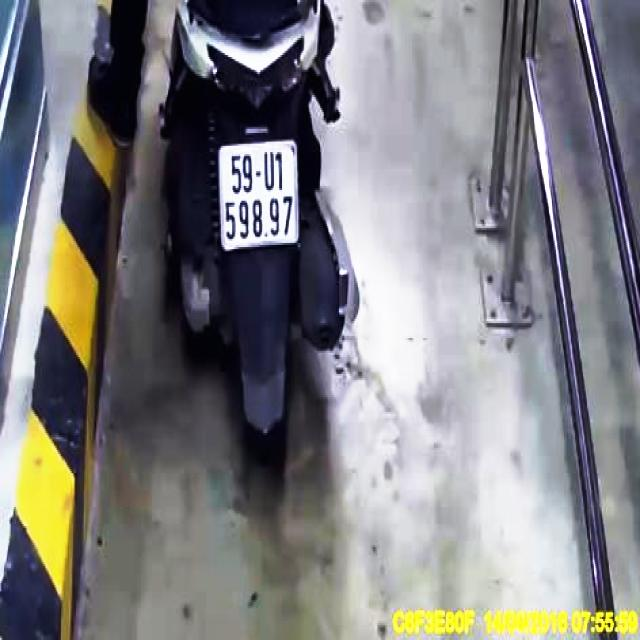license_plate: (221, 144, 298, 248)
